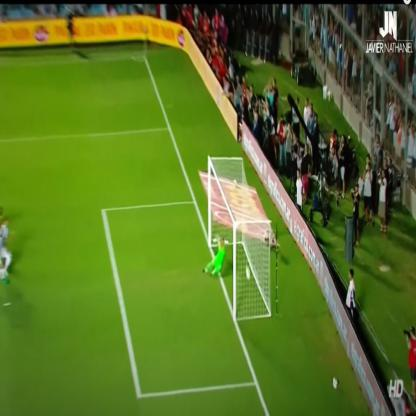goal: (203, 169, 276, 344)
